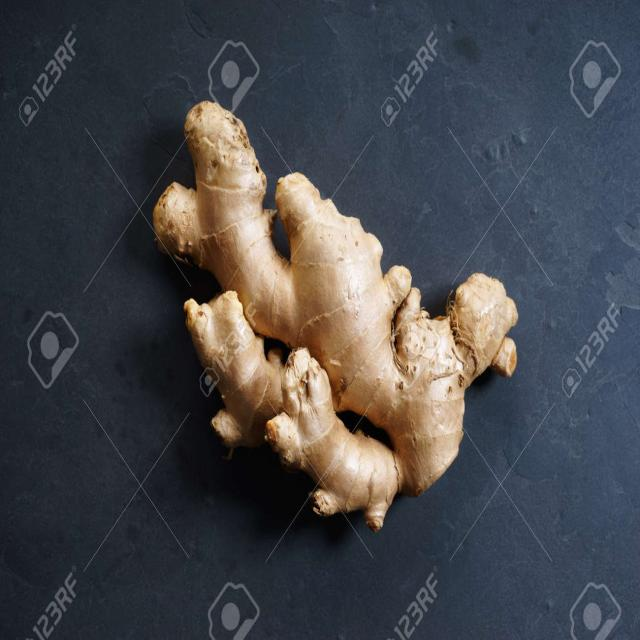ginger-root: (147, 96, 518, 546)
